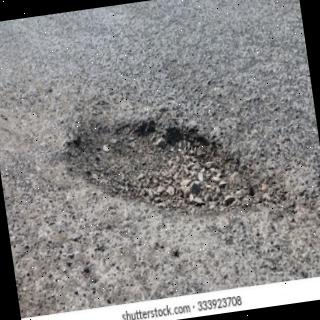pothole: (65, 118, 266, 214)
